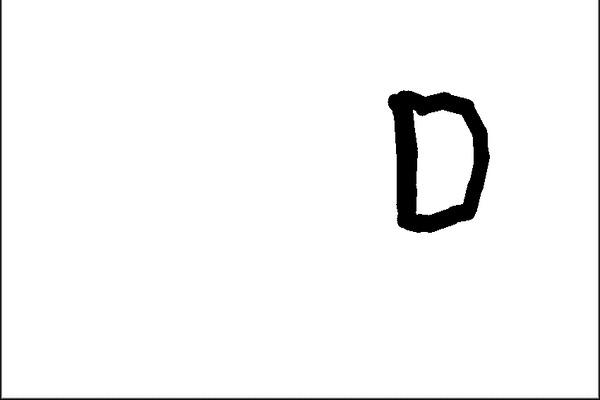D: (382, 86, 496, 241)
